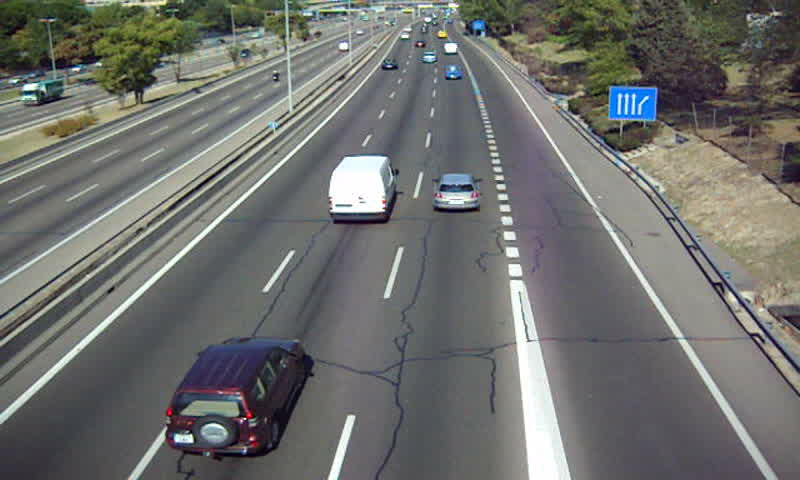car: (166, 340, 308, 455), (434, 175, 478, 210), (444, 63, 462, 80), (420, 49, 439, 64), (380, 58, 397, 71)
van: (329, 156, 396, 223)
